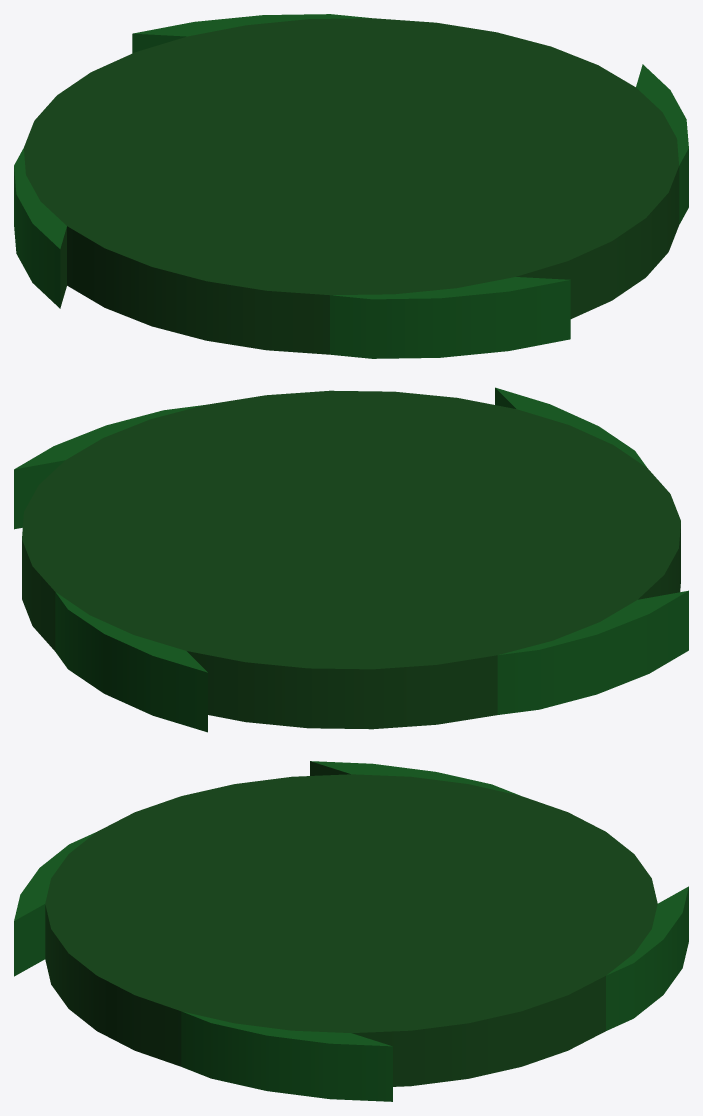
Rendered from middle2.glb.
3 renders of one model, top to bottom at view 1: azimuth 30°, elevation 25°; view 2: azimuth 150°, elevation 25°; view 3: azimuth 270°, elevation 25°, orthographic. The views are drawn at different scales.
Parts seen in each view (by area): view 1: middle; view 2: middle; view 3: middle.
Part boxes in pixels (<box>): middle: <box>14,14,688,358</box>; middle: <box>14,387,688,732</box>; middle: <box>14,761,688,1101</box>.
Bounding box in the file's own units: 0.4408 × 0.04 × 0.4408.
